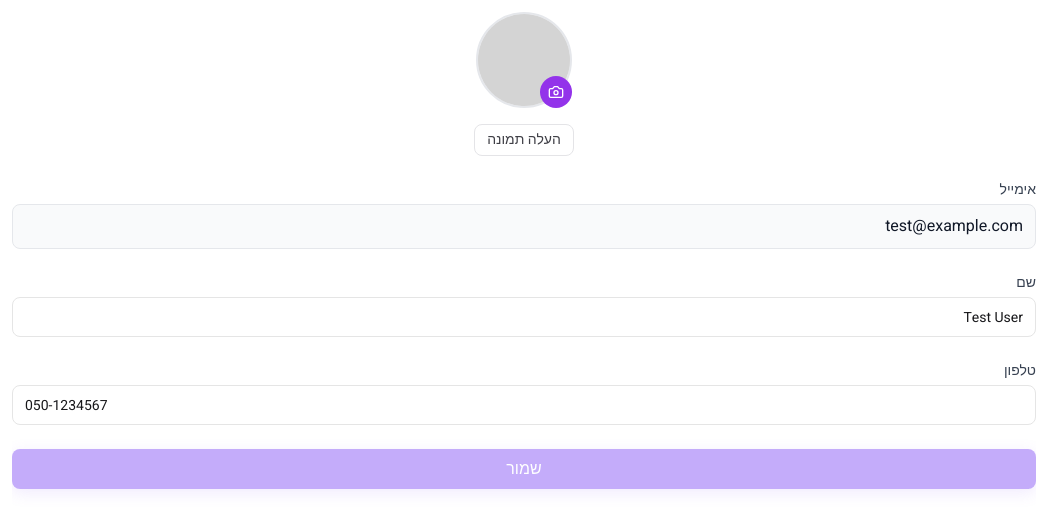
Test: ProfileForm › Form Editing › enables save button when form changed
Replace the text in the field labelled "שם" with "New Name" at [524, 317], box x1=12 y1=297 x2=1036 y2=337
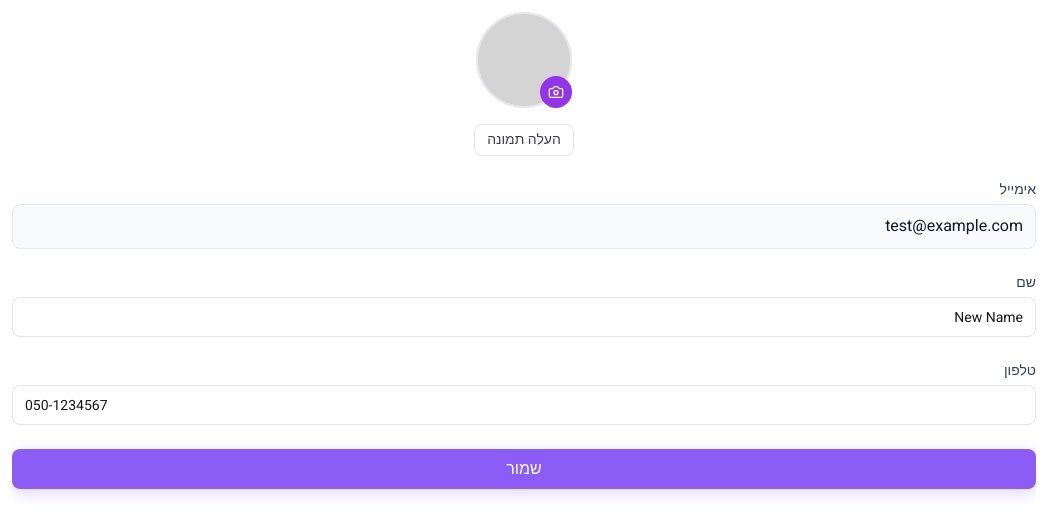
Expected: the button "שמור" is enabled, x1=12 y1=449 x2=1036 y2=489
